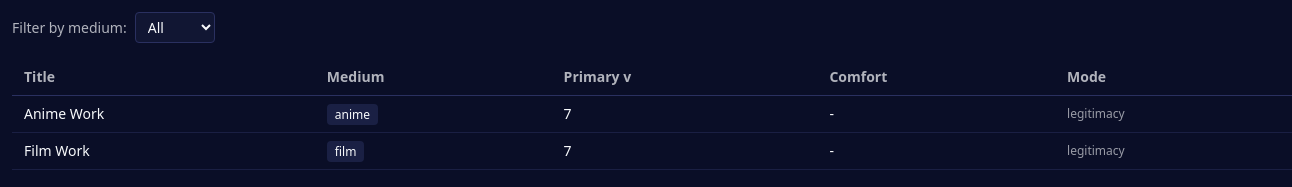
Test: DebugTable › filters by medium
Select "anime" in the dropdown at (175, 28), box [135, 12, 215, 43]
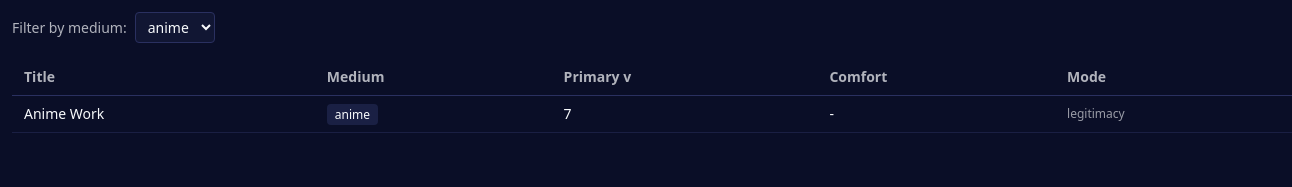
Expected: the text "Anime Work" is shown, [12, 96, 315, 132]
Expected: the text "Film Work" is gone
